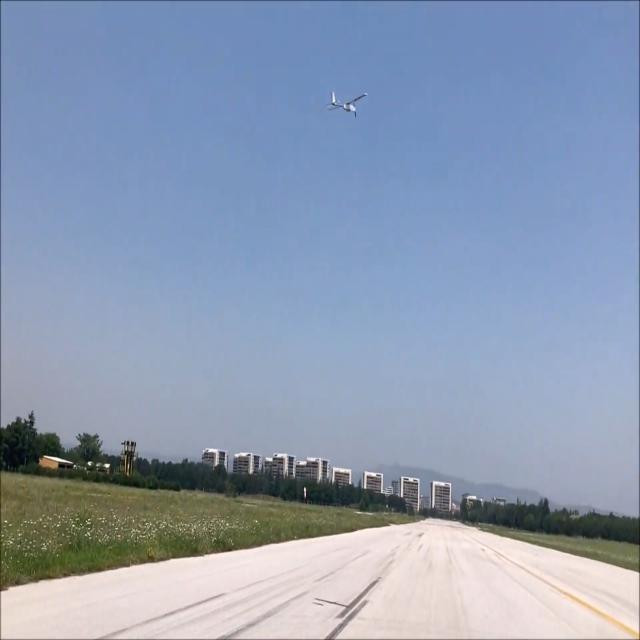UAV: (300, 80, 382, 133)
